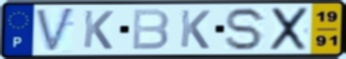B: (130, 8, 172, 51)
K: (81, 9, 115, 51), (178, 8, 212, 50)
S: (224, 6, 269, 53)
V: (33, 6, 77, 54)
X: (268, 5, 311, 52)
